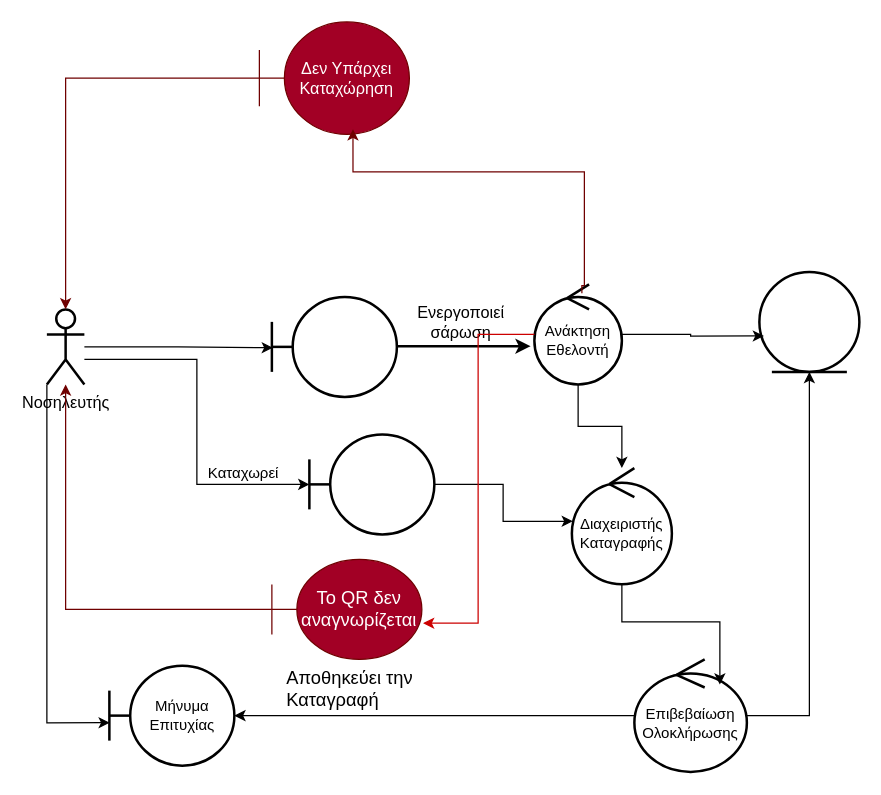
This 881x795 diagram has some shape labels left out. The shapes that lost their labels are listed below. From the top down, each one's centre as x and y in pixels, then its label:
the point at 809,321: βαση δεδομενων
the point at 334,346: Μενού επιλογών
the point at 371,483: Εμφάνιση Στοιχείων
